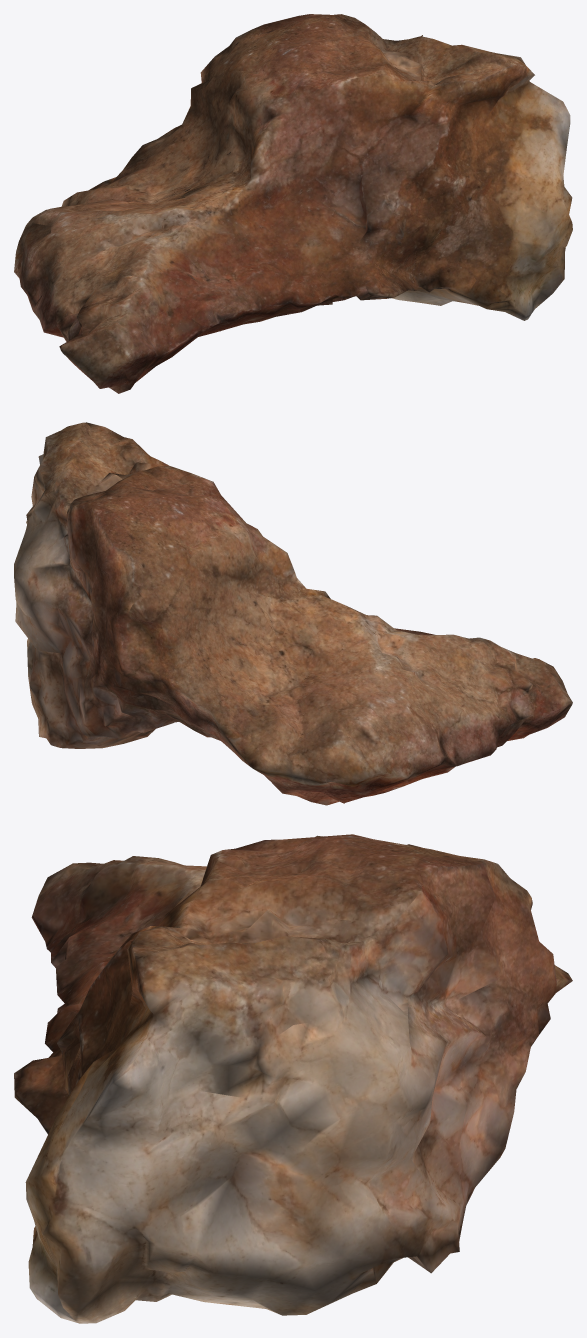
The model's file is stone_01.glb.
3 views of the same model, one above another, from view 1: azimuth 30°, elevation 25°; view 2: azimuth 150°, elevation 25°; view 3: azimuth 270°, elevation 25° (orthographic). The views are drawn at different scales.
Parts seen in each view (by area): view 1: stone_01; view 2: stone_01; view 3: stone_01.
Part boxes in pixels (bbox=[...]): stone_01: bbox=[14, 14, 572, 393]; stone_01: bbox=[14, 422, 572, 805]; stone_01: bbox=[14, 834, 572, 1323].
Size of the model in its own units: 0.1464 by 0.0708 by 0.089.
1 material, 1 textured.
